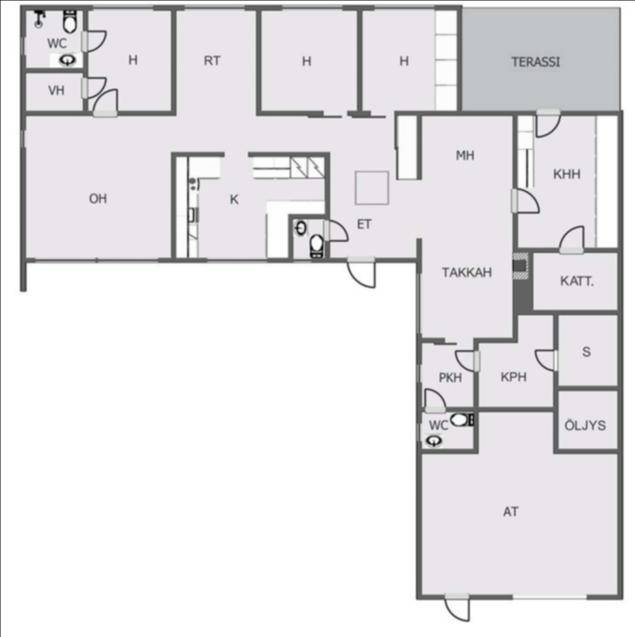door: (344, 252, 378, 290), (440, 590, 474, 626), (555, 224, 589, 257), (510, 184, 544, 216), (533, 108, 564, 140), (420, 382, 449, 416), (92, 88, 120, 120), (534, 345, 563, 373), (78, 74, 109, 100), (78, 26, 109, 52), (452, 346, 482, 372), (321, 218, 350, 244)
window: (506, 590, 594, 605), (29, 253, 98, 270), (199, 254, 272, 268), (96, 254, 162, 268), (275, 0, 347, 12), (87, 0, 159, 12), (180, 0, 250, 12), (413, 264, 424, 338), (369, 2, 436, 14), (16, 31, 28, 60), (17, 124, 29, 152), (413, 359, 422, 391), (414, 416, 423, 447)
